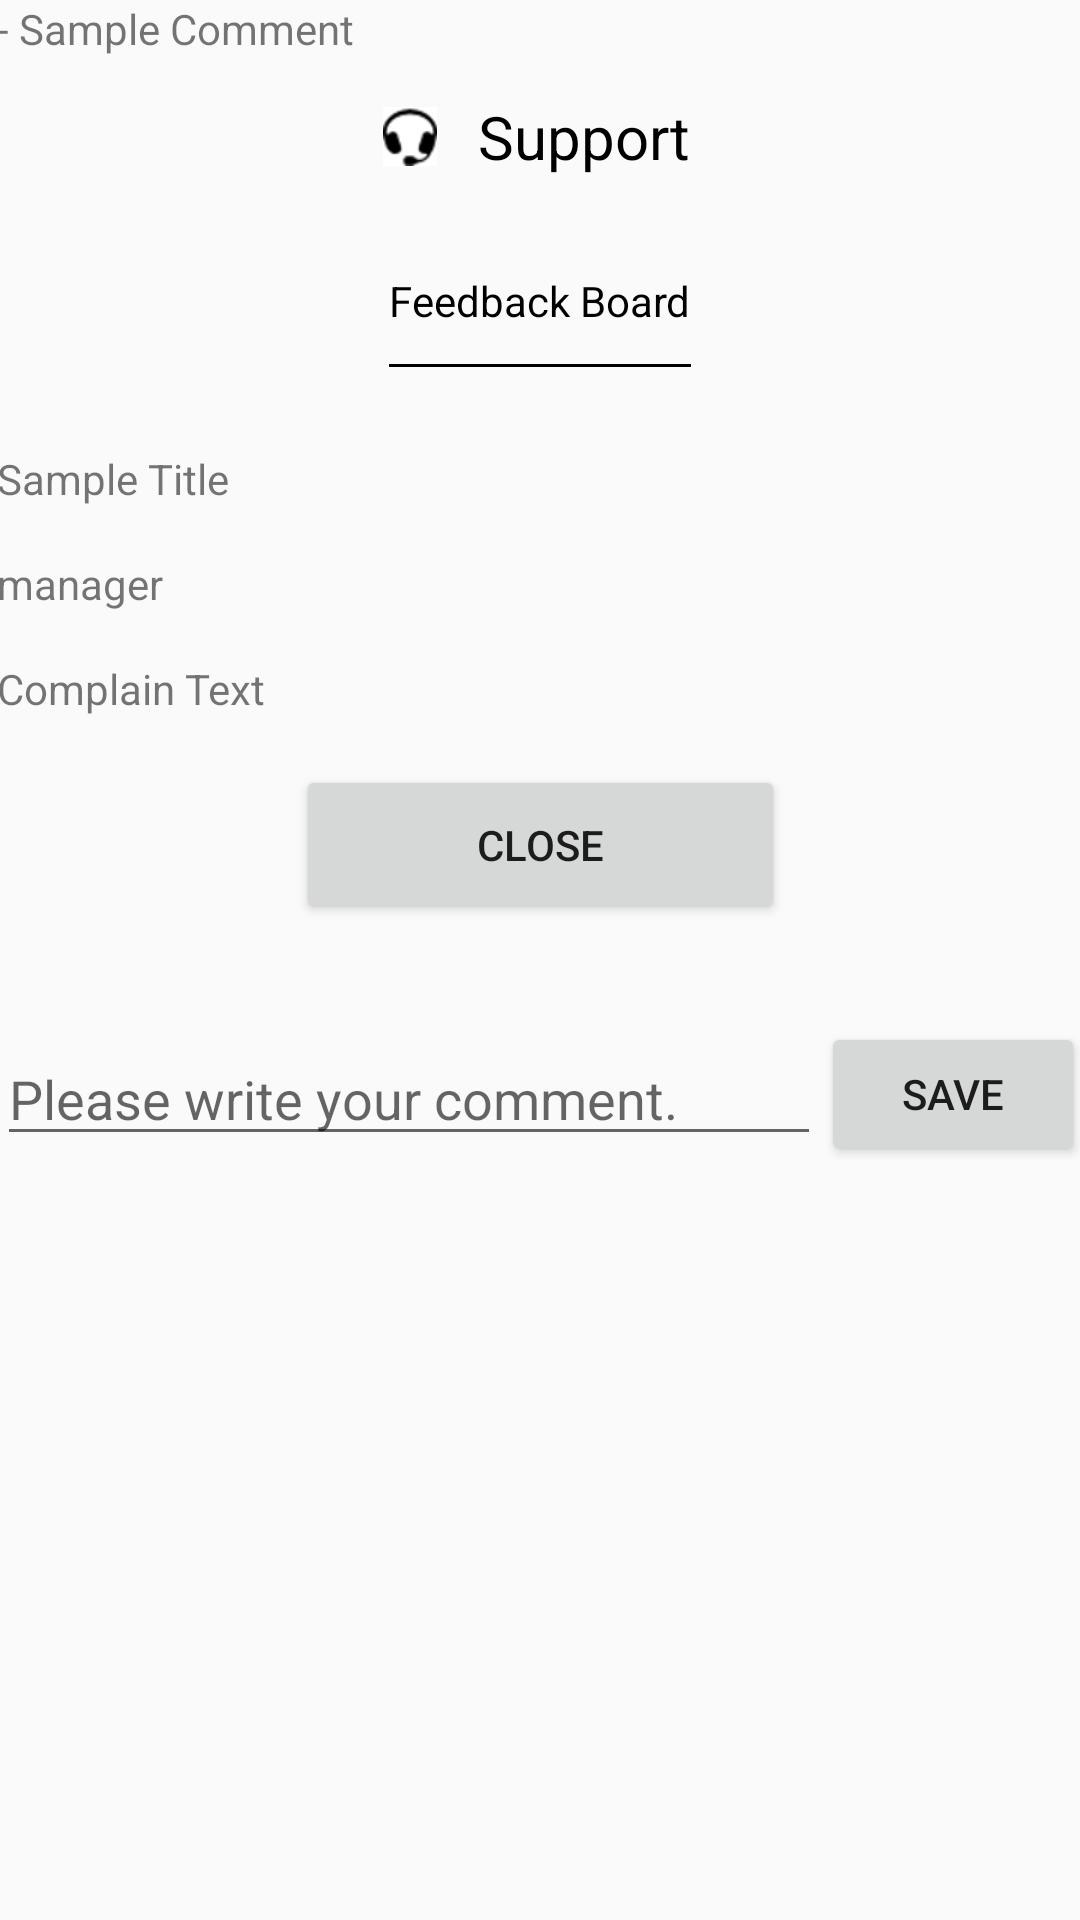

Screen size 1080w x 1920h. Icon name, then its box in pixels as (x1, y1, x2, y2):
headset: (383, 108, 437, 166)
